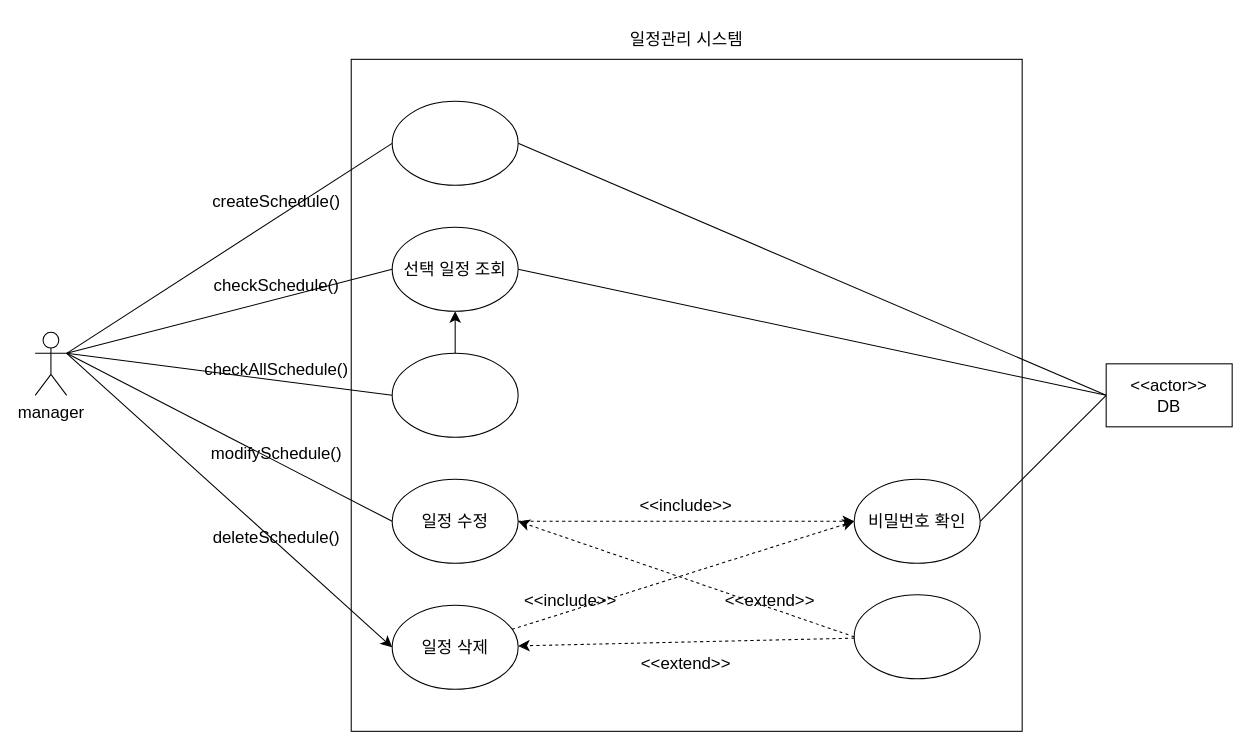
Image size: 1251x750. Some labels were removed from this diagram. The centre of each missing label's shape, as x and y in pixels:
"비밀번호 오류 출력" goes at (x=916, y=636).
"일정 생성" goes at (x=454, y=142).
"전체 일정 조회" goes at (x=454, y=394).
